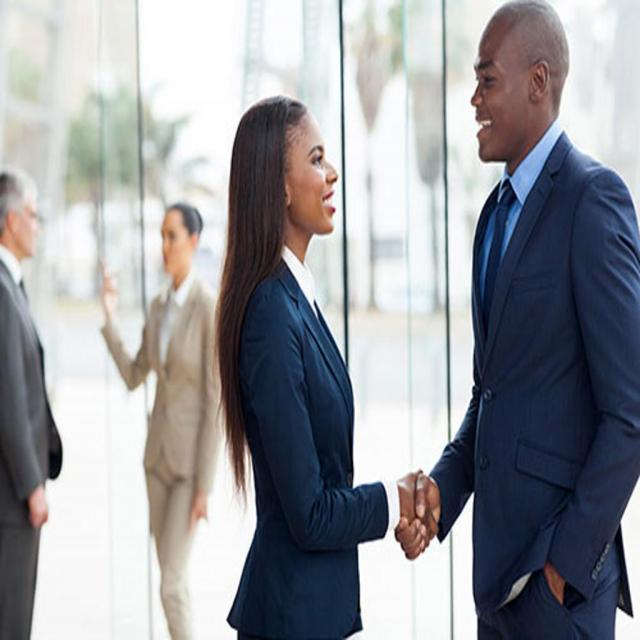nomask: (470, 24, 528, 162), (289, 123, 337, 234), (160, 213, 186, 273), (12, 194, 37, 255)
